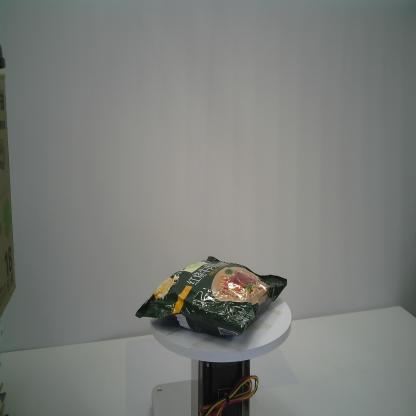Instant Noodles: (134, 253, 289, 341)
